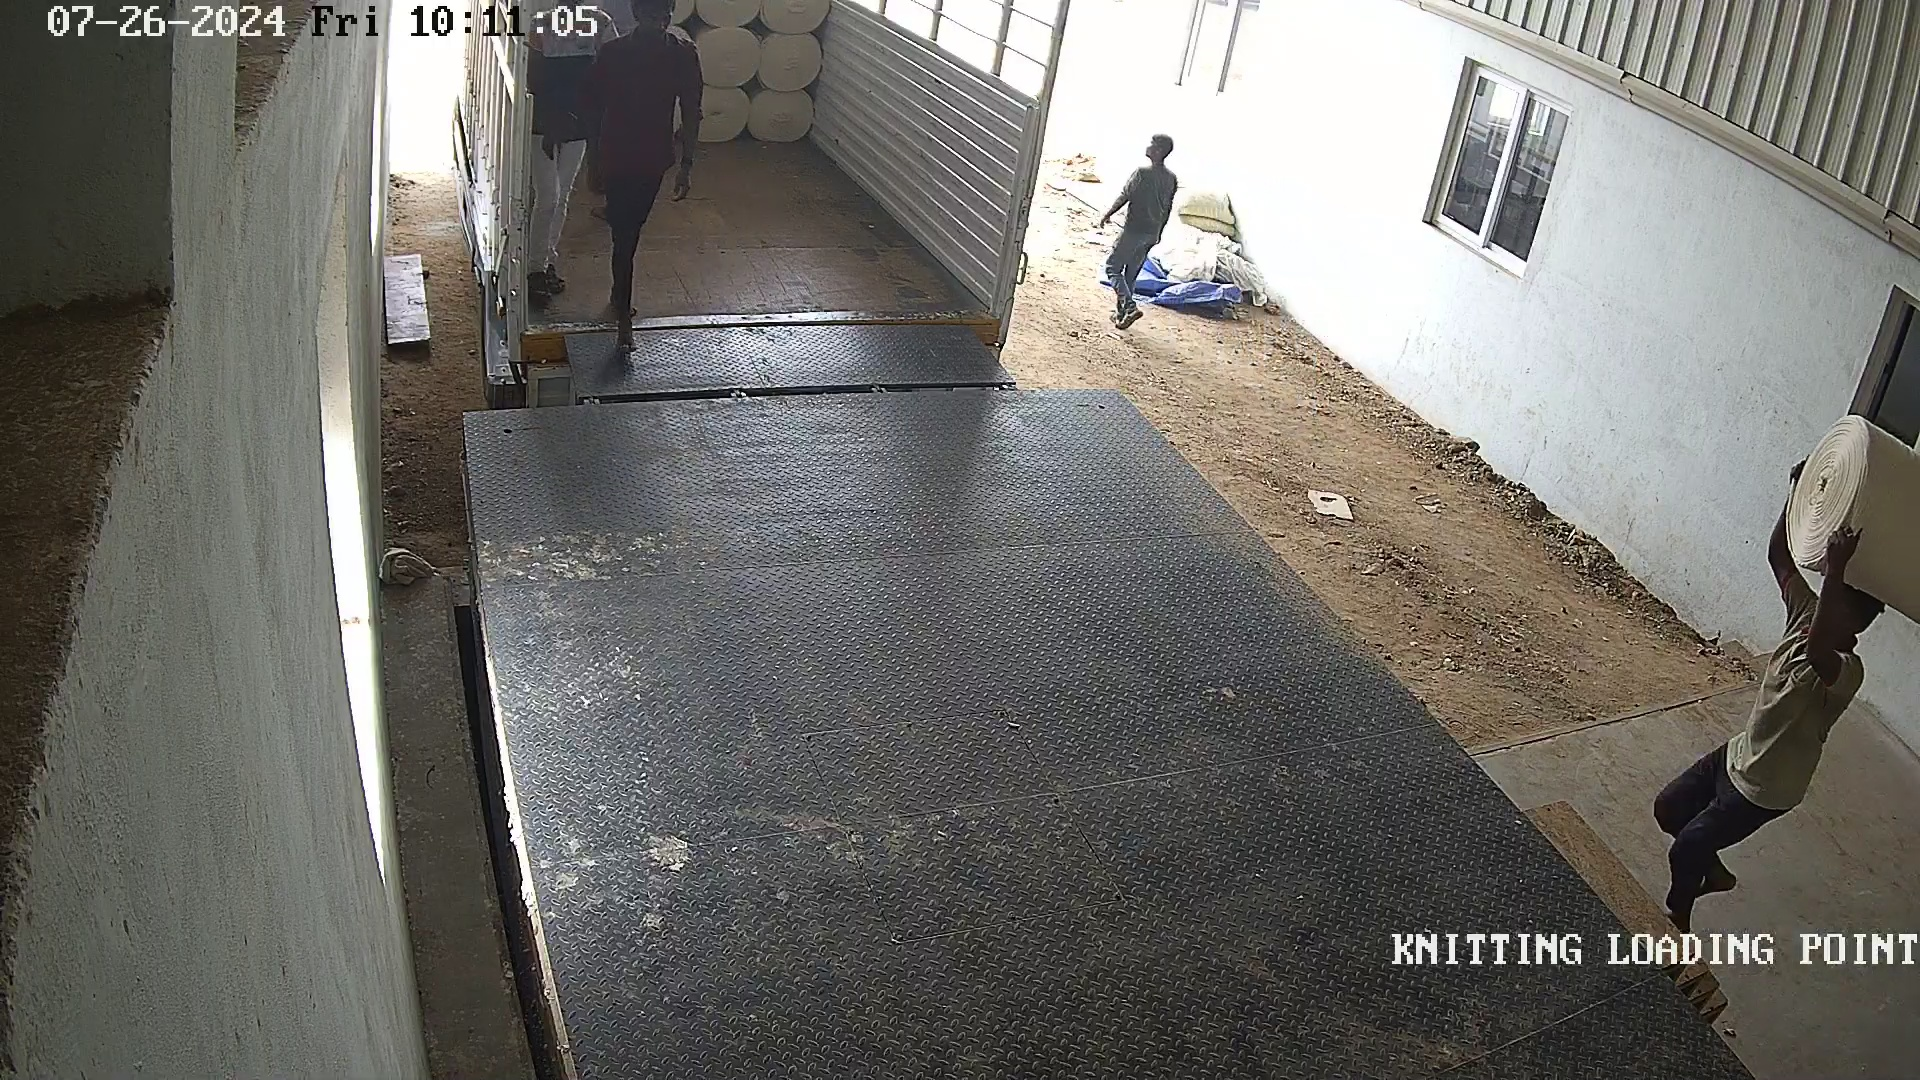bag: (1783, 407, 1920, 629)
